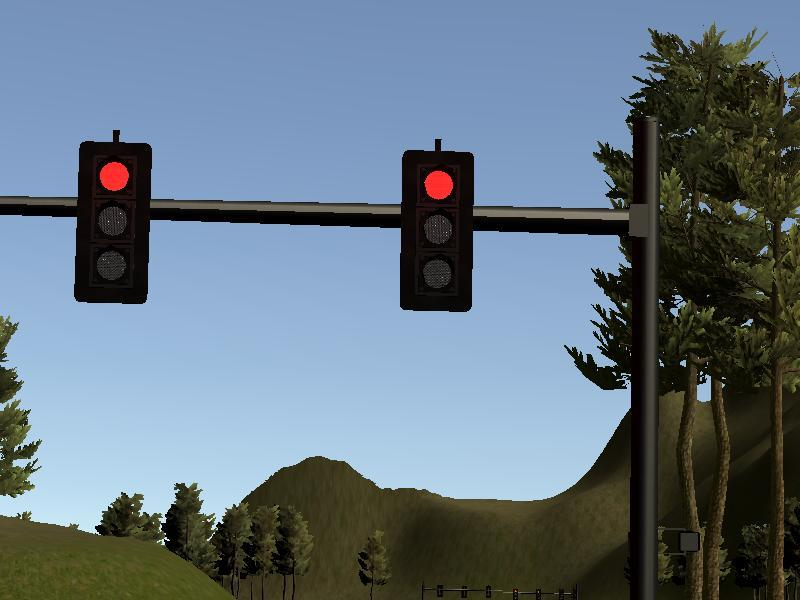Red: (78, 141, 147, 300), (405, 154, 471, 307)
